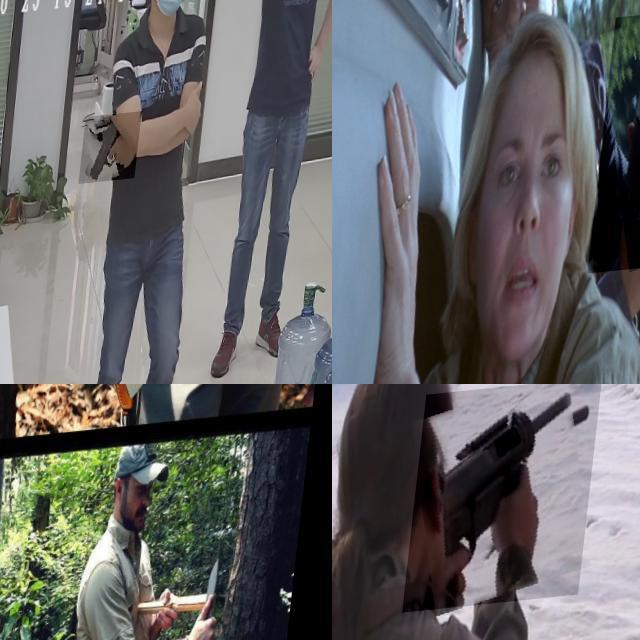-: (0, 384, 87, 470), (101, 384, 171, 452), (205, 564, 238, 640)
gun-knife-thesis - v11 Yolov5 augmented: (411, 386, 606, 619), (597, 16, 640, 281), (84, 116, 146, 188)
